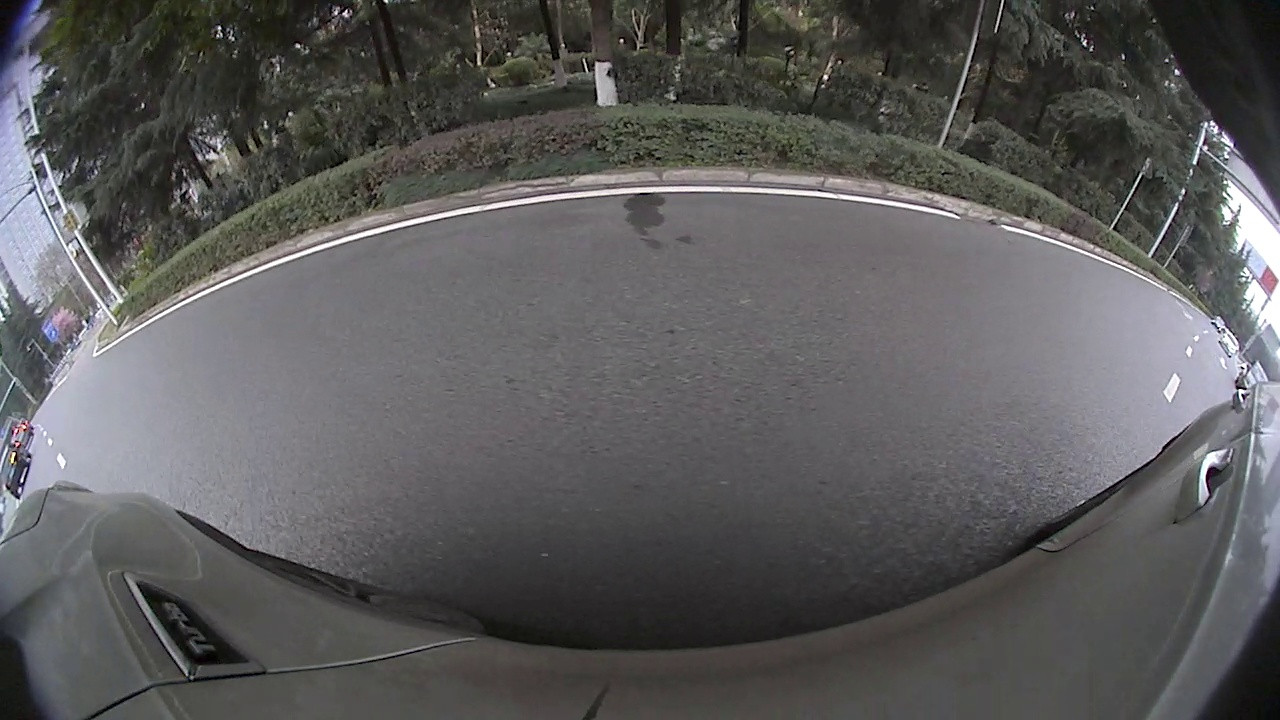car: (1, 442, 33, 500), (1234, 359, 1268, 393), (1217, 330, 1240, 359)
